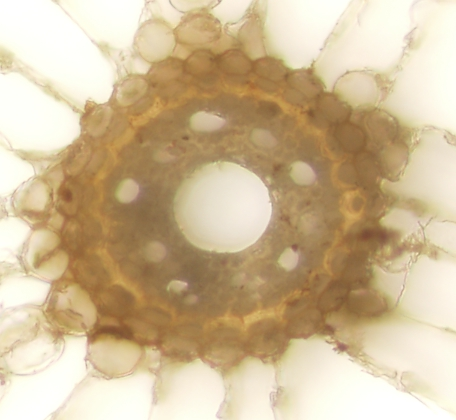lm: (174, 160, 272, 253)
